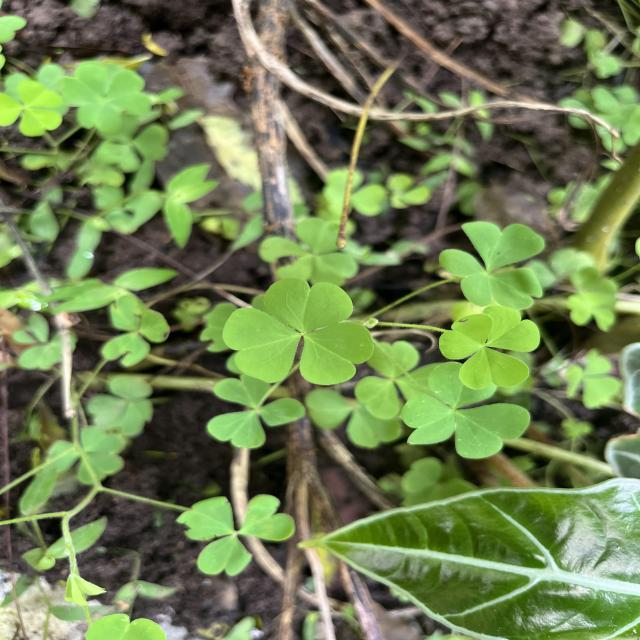Oxalis corniculata: (221, 276, 376, 387), (398, 359, 534, 462), (177, 492, 299, 578), (438, 220, 550, 310), (437, 304, 542, 391), (206, 378, 306, 452)
